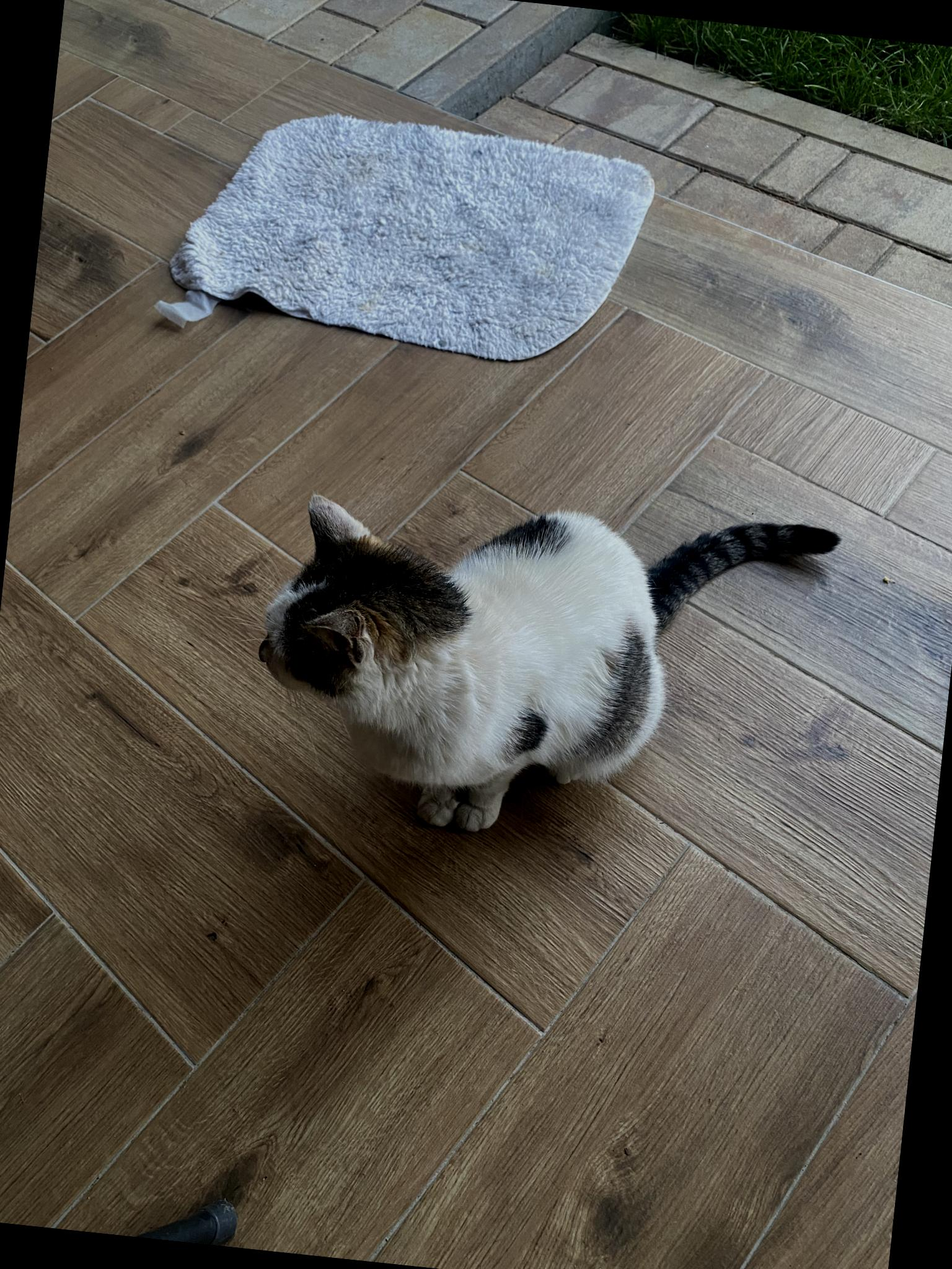macka: (243, 470, 843, 872)
